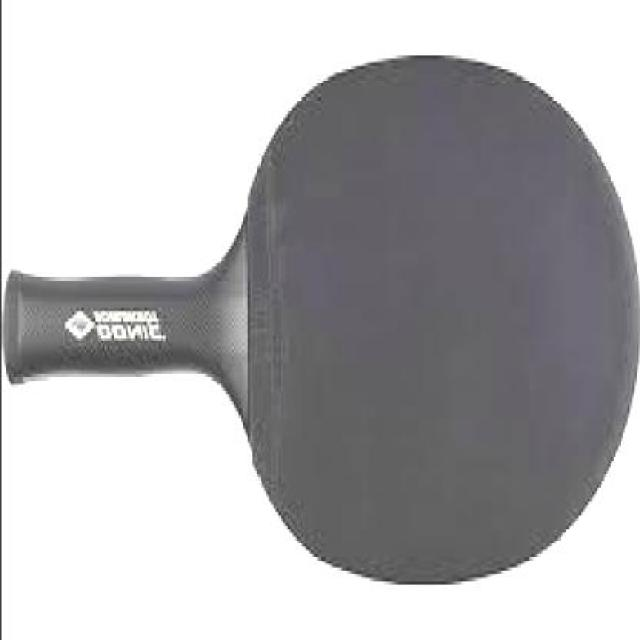table_tennis_racket: (203, 43, 639, 600)
